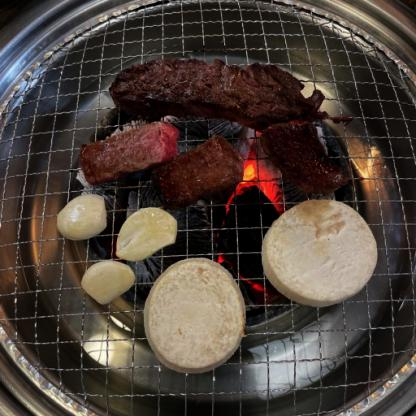Carne: (102, 54, 320, 130), (274, 114, 354, 204), (154, 129, 238, 214)
